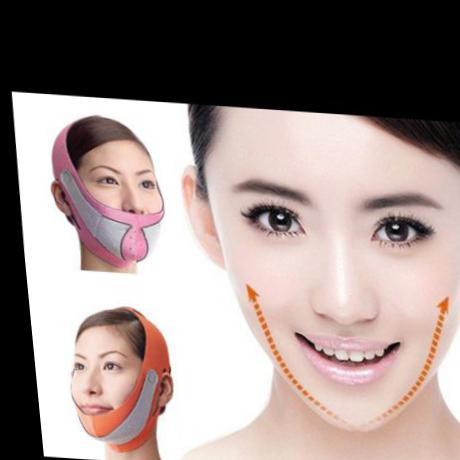NONE: (205, 165, 460, 420), (52, 338, 142, 430)
WRONG: (60, 155, 168, 260)
